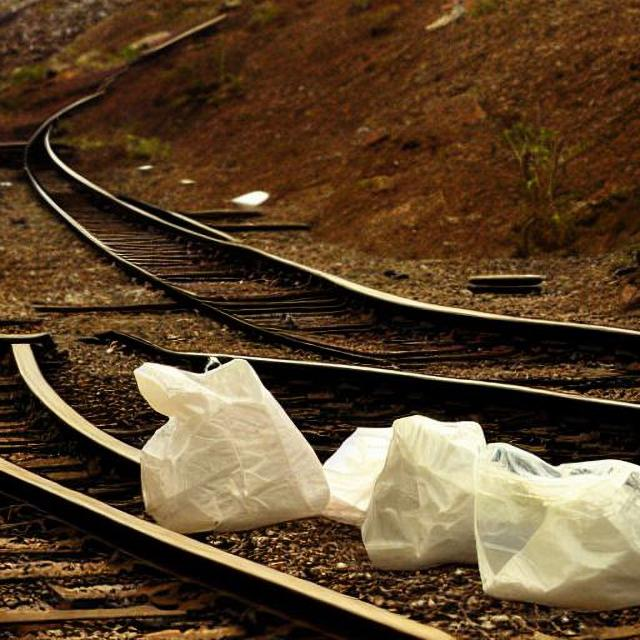plastic bag: (115, 338, 640, 632)
